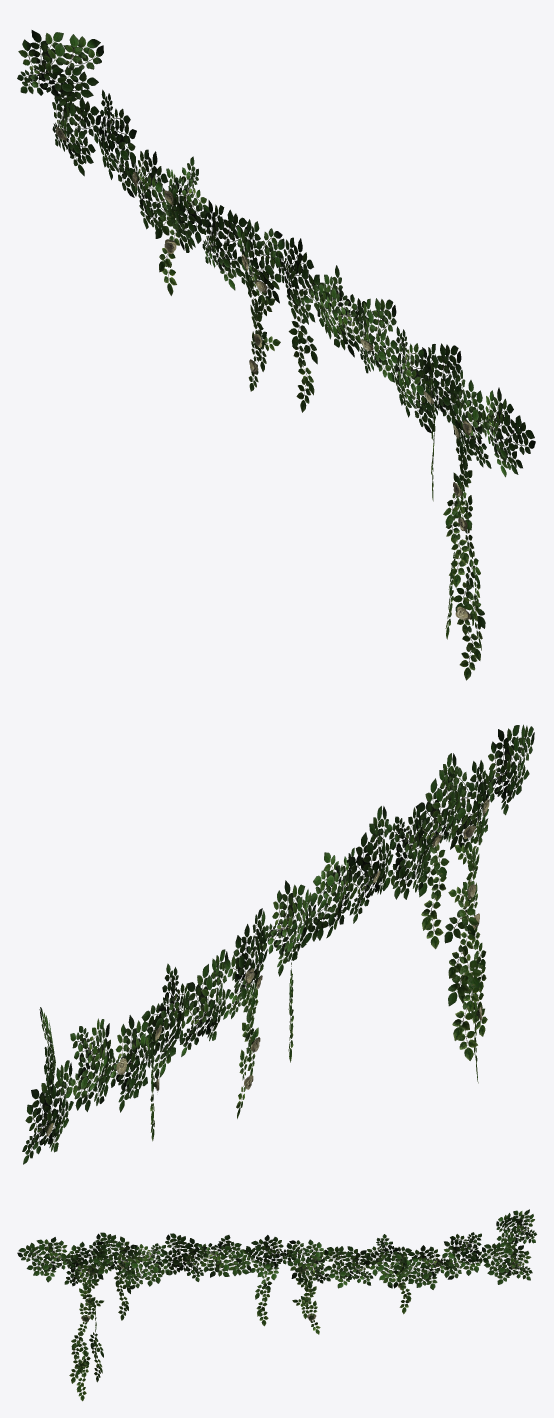
Rendered from GS_NATURE_ROSE_WHITE_01.glb.
The picture shows the model from 3 angles, top to bottom: view 1: azimuth 30°, elevation 25°; view 2: azimuth 150°, elevation 25°; view 3: azimuth 270°, elevation 25°; orthographic projection. The views are drawn at different scales.
Visible parts, largest first — view 1: Mesh; view 2: Mesh; view 3: Mesh.
Boxes of the visible parts, x1,y1,x2,y2 form: Mesh: (17, 30, 535, 680); Mesh: (22, 724, 534, 1164); Mesh: (17, 1209, 536, 1401).
Size of the model in its own units: 0.4975 by 3.23 by 7.87.
1 material, 1 textured.
